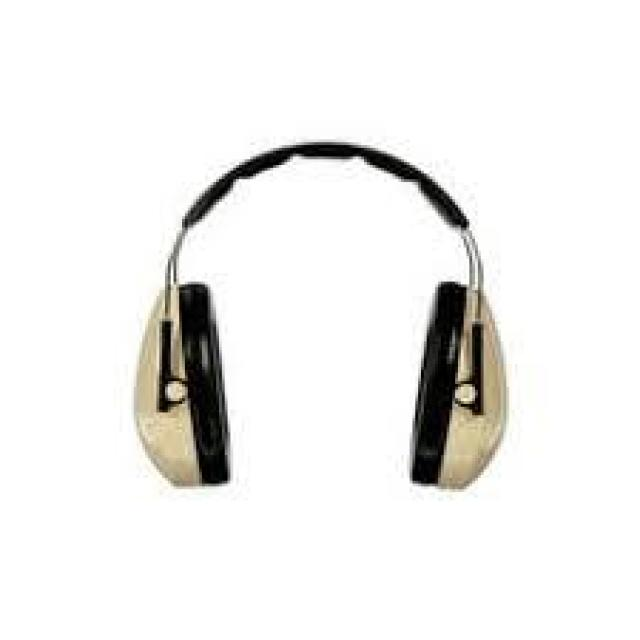Ear-protection: (136, 146, 514, 487)
